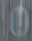Two way: (4, 1, 31, 37)
